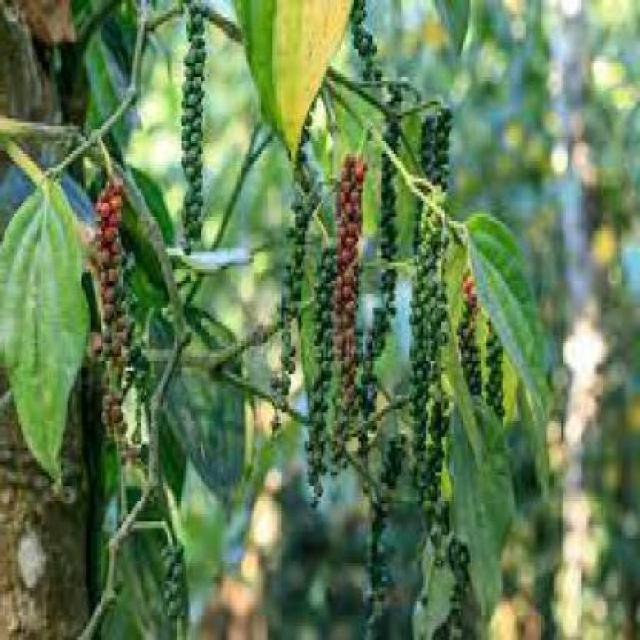RIPE: (328, 140, 375, 472), (96, 168, 133, 409)
UNRIPE: (266, 115, 320, 434), (412, 91, 454, 412), (372, 63, 405, 360), (175, 0, 209, 258)
